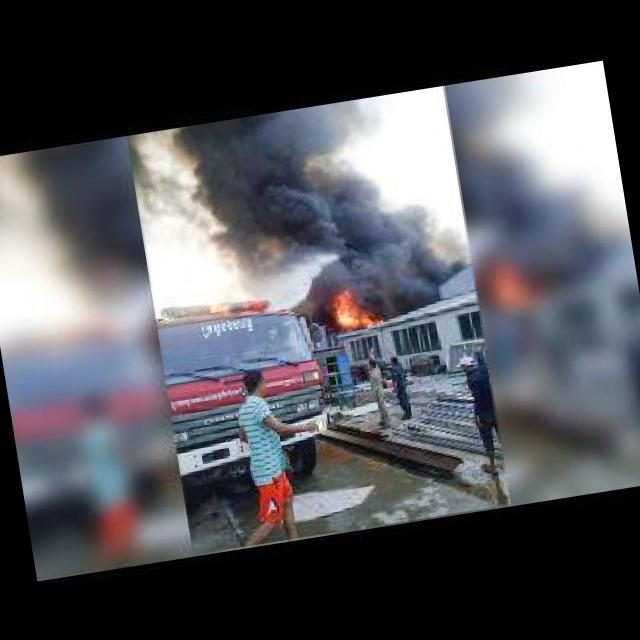Fire: (325, 279, 384, 338)
Smoke: (170, 89, 464, 322)
